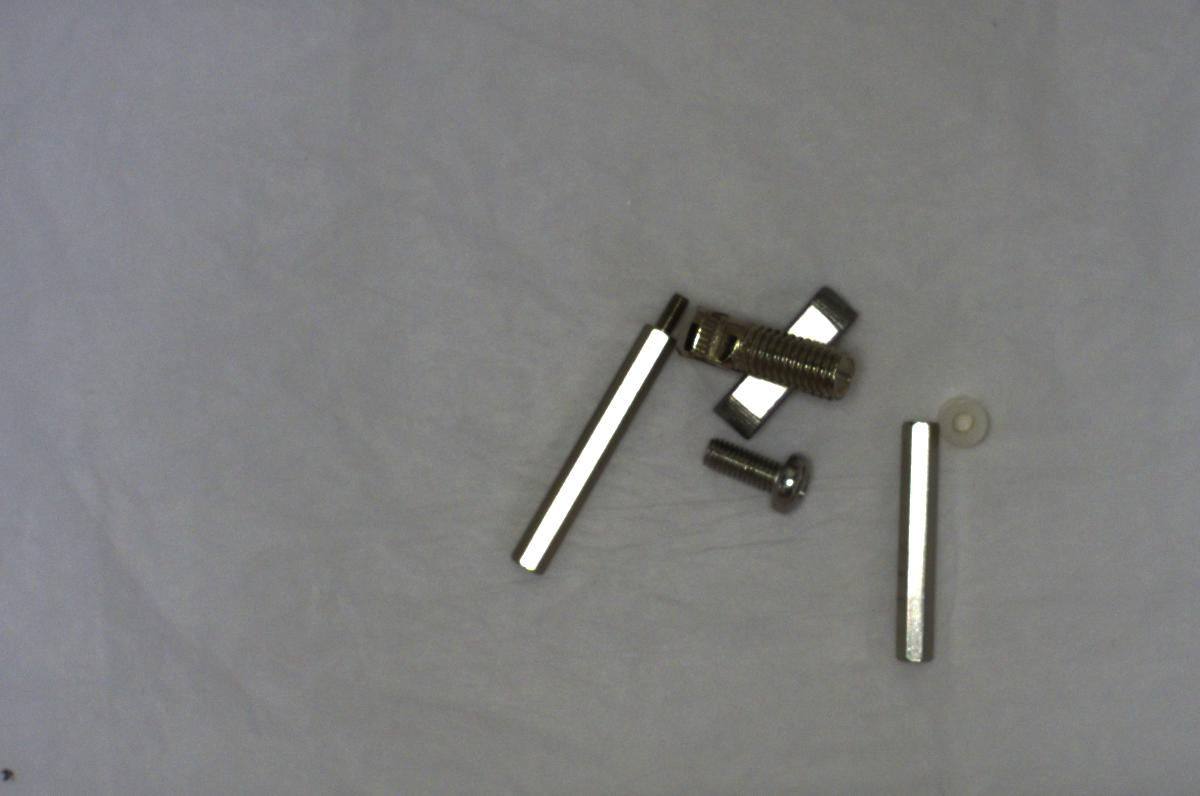Double hexagonal column: (887, 408, 939, 673)
Hexagonal steel column: (497, 283, 694, 583)
Keybar: (711, 278, 864, 440)
Plastic cushion pillar: (928, 385, 997, 454)
Round head screw: (693, 427, 823, 515)
T-shaped screw: (674, 292, 856, 403)
